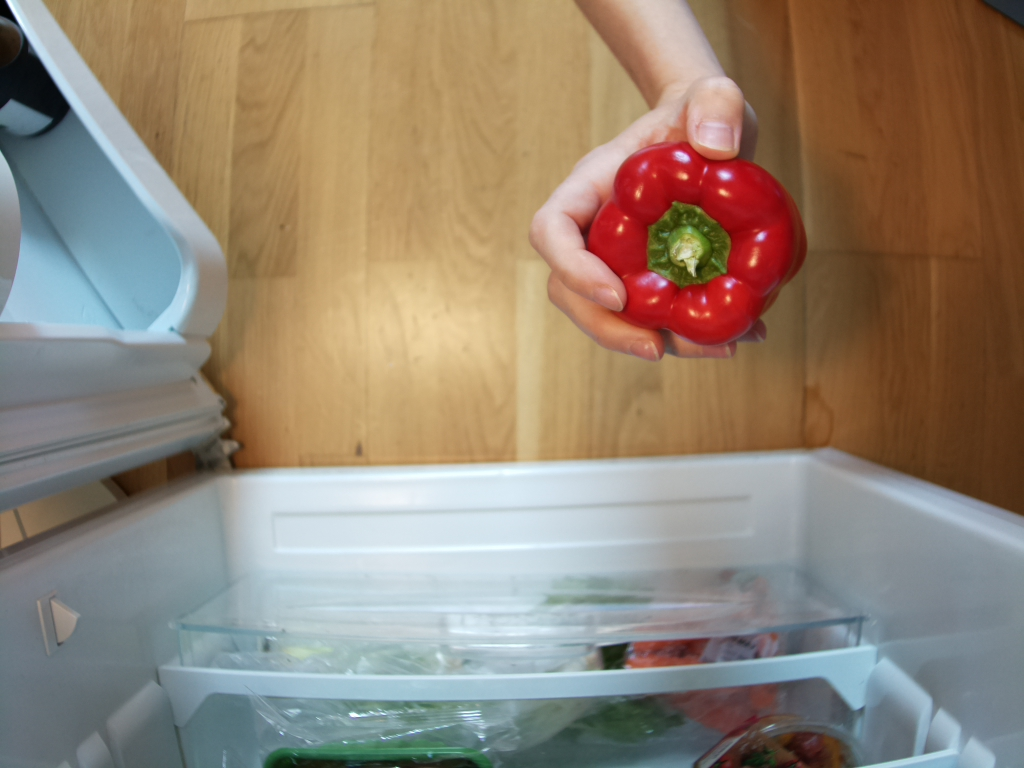pepper: (584, 141, 809, 348)
